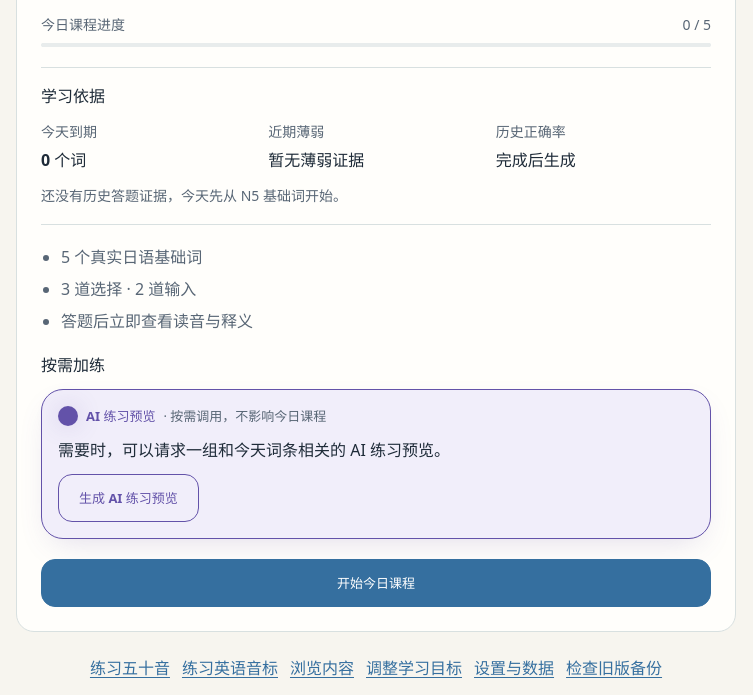
Test case: TodayCoursePage › requests AI practice only on demand and keeps it outside the learning session
(page scrolled)
Expected: the text "AI 已生成" is not shown
Click the button "生成 AI 练习预览". click: [128, 498]
box: [58, 474, 199, 522]
(page scrolled)
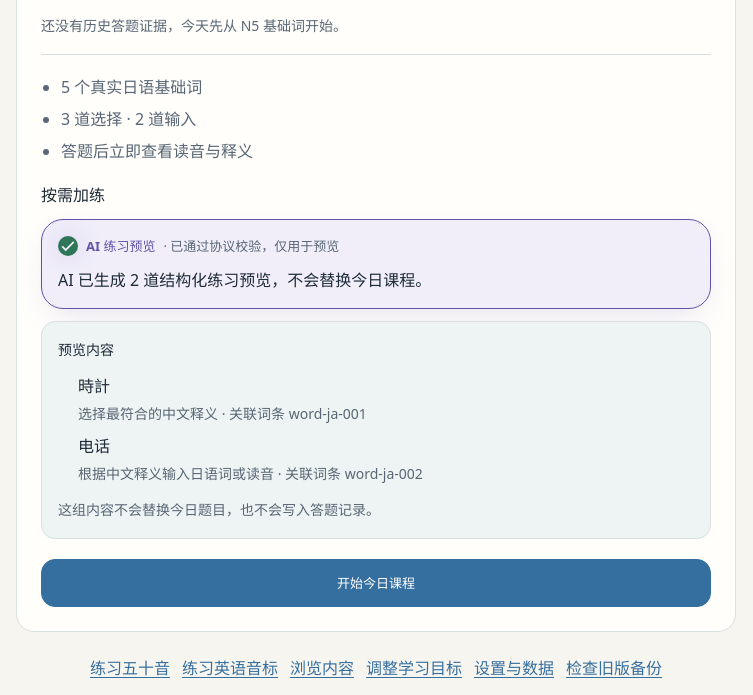
Expected: the text "AI 已生成 2 道结构化练习预览，不会替换今日课程。" is shown, [58, 269, 431, 291]
Expected: the text "時計" is shown, [78, 375, 110, 397]
Expected: the text "电话" is shown, [78, 435, 110, 457]
